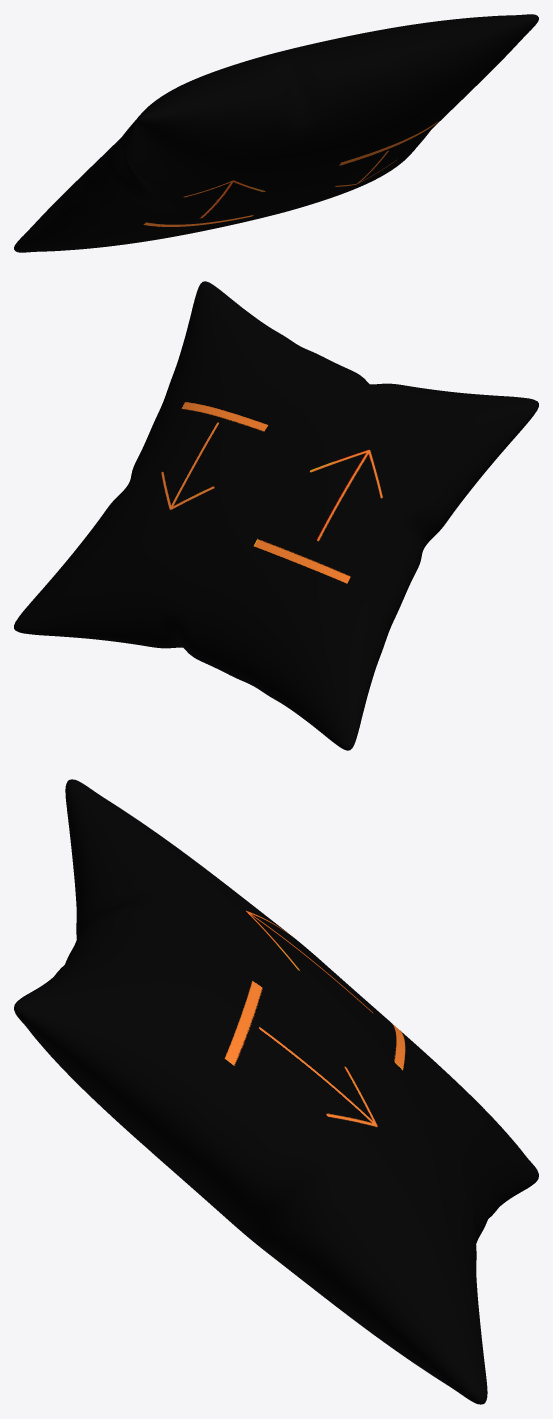
File: platformquilt.fbx
The picture shows the model from 3 angles, top to bottom: view 1: azimuth 30°, elevation 25°; view 2: azimuth 150°, elevation 25°; view 3: azimuth 270°, elevation 25°; orthographic projection. The views are drawn at different scales.
Parts seen in each view (by area): view 1: Plane; view 2: Plane; view 3: Plane.
Boxes of the visible parts, x1=… form: Plane: x1=14, y1=14, x2=538, y2=252; Plane: x1=14, y1=281, x2=538, y2=750; Plane: x1=14, y1=779, x2=538, y2=1404.
Bounding box in the file's own units: 316 × 208 × 242.
1 material, 1 textured.
